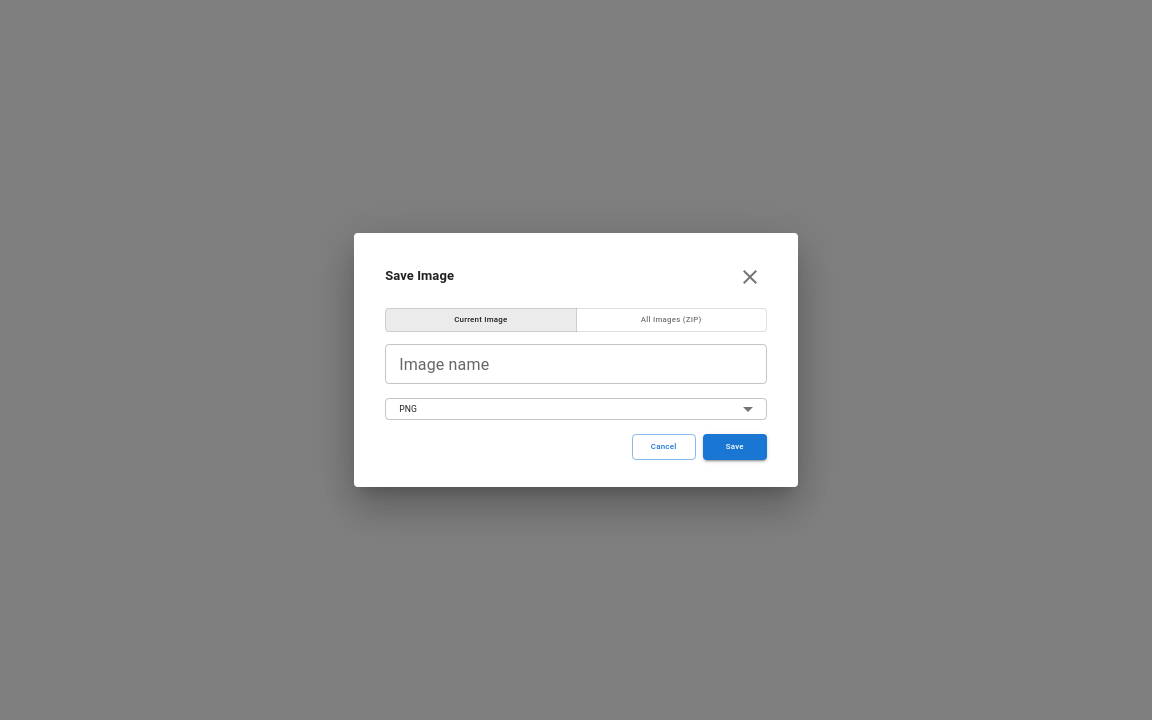
SaveDialog › individual mode – label validation › shows a required error when saving with an empty label
Click the button "Save" at (735, 447), box [703,434,767,460]
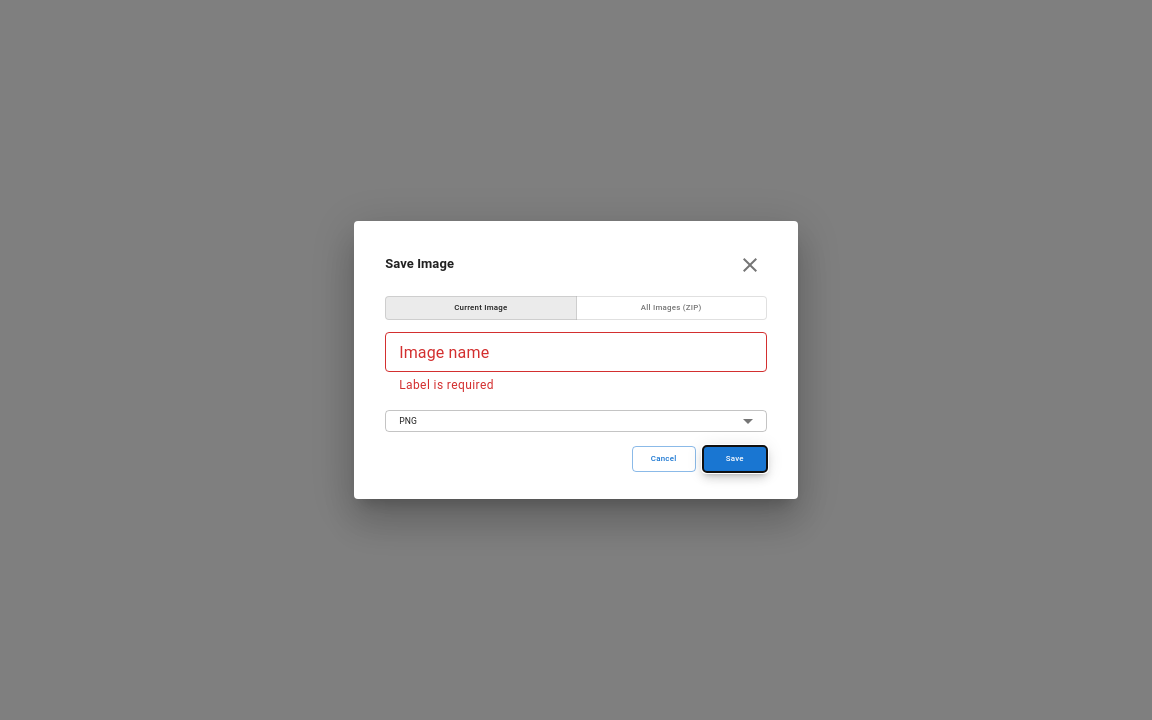
Now the text "Label is required" is shown, box [399,378,494,392]
